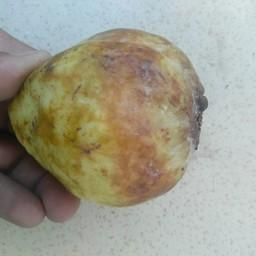Bad_guava: (8, 26, 209, 210)
